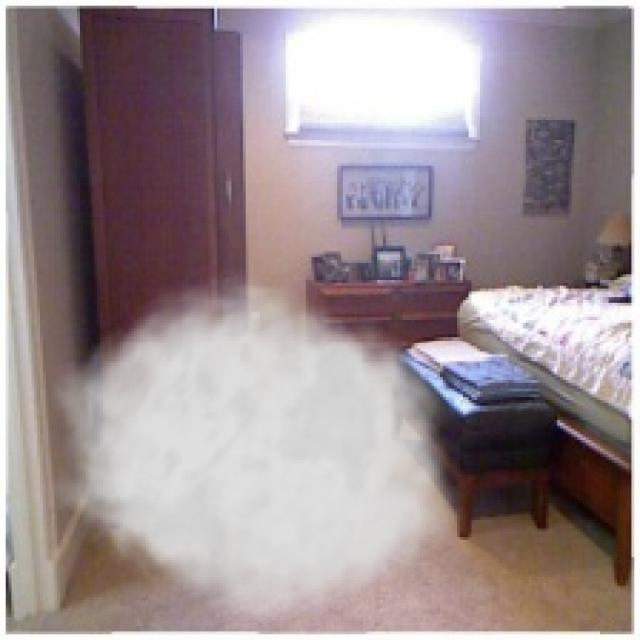Smoke: (49, 266, 472, 632)
